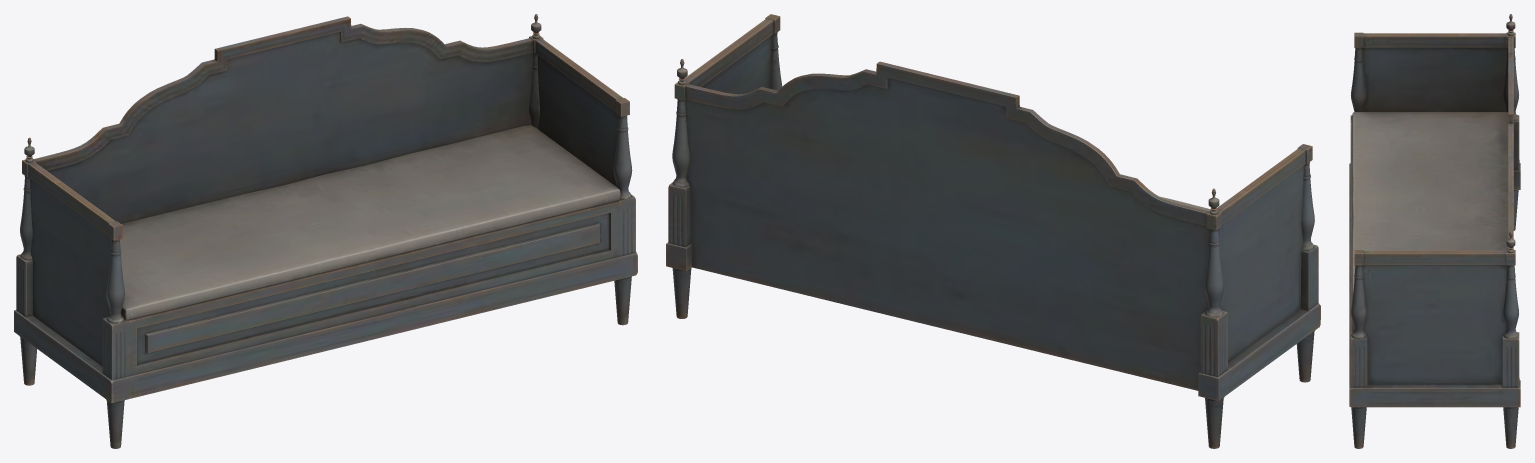
The model's file is painted_wooden_sofa.glb.
The picture shows the model from 3 angles, left to right: view 1: azimuth 30°, elevation 25°; view 2: azimuth 150°, elevation 25°; view 3: azimuth 270°, elevation 25°; orthographic projection. The views are drawn at different scales.
Visible parts, largest first — view 1: painted_wooden_sofa; view 2: painted_wooden_sofa; view 3: painted_wooden_sofa.
Boxes of the visible parts, x1=… form: painted_wooden_sofa: x1=14, y1=14, x2=637, y2=448; painted_wooden_sofa: x1=666, y1=14, x2=1320, y2=448; painted_wooden_sofa: x1=1349, y1=14, x2=1520, y2=448.
Size of the model in its own units: 2.45 by 1.28 by 0.7872.
Materials: 1 (1 with a texture image).
